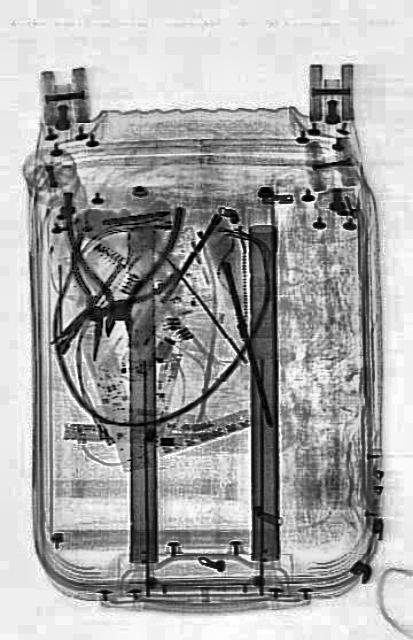Pliers: (50, 222, 178, 386), (59, 190, 181, 338)
